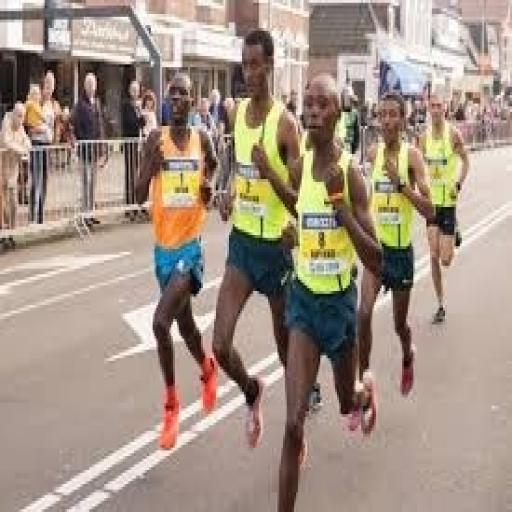running: (274, 70, 385, 509), (210, 25, 320, 453), (132, 70, 222, 453), (356, 89, 440, 403)
